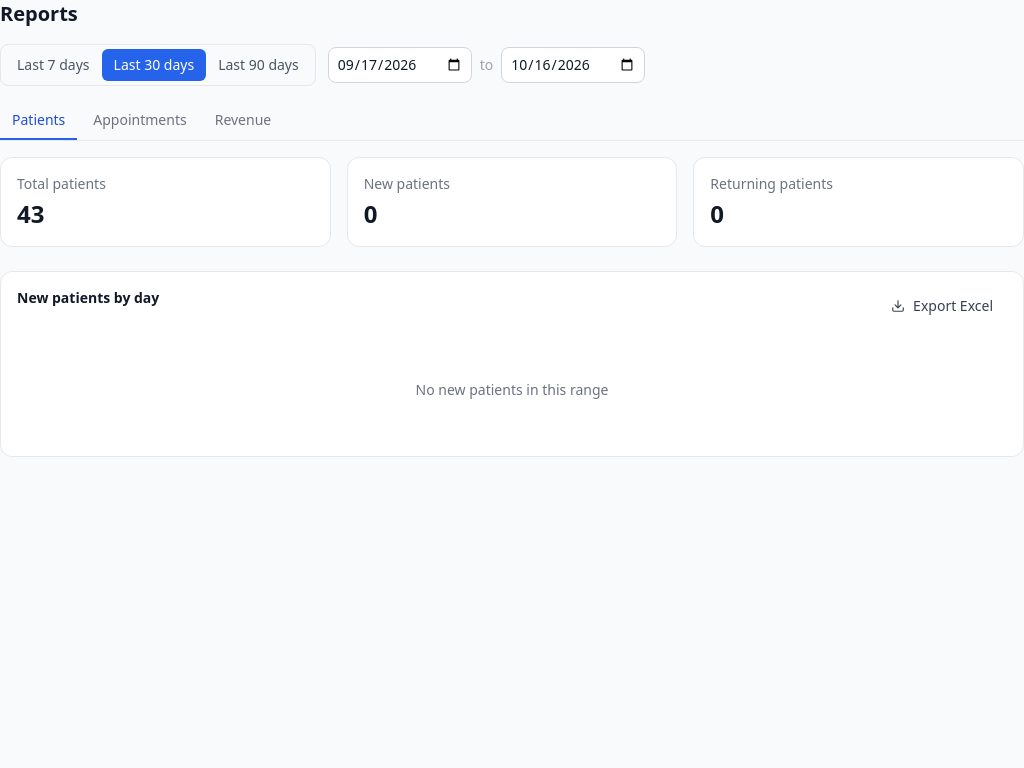
Test case: Reports › shows revenue by payment method with readable names, and a daily average
Click the tab "Revenue": (243, 121) [203, 102, 283, 140]
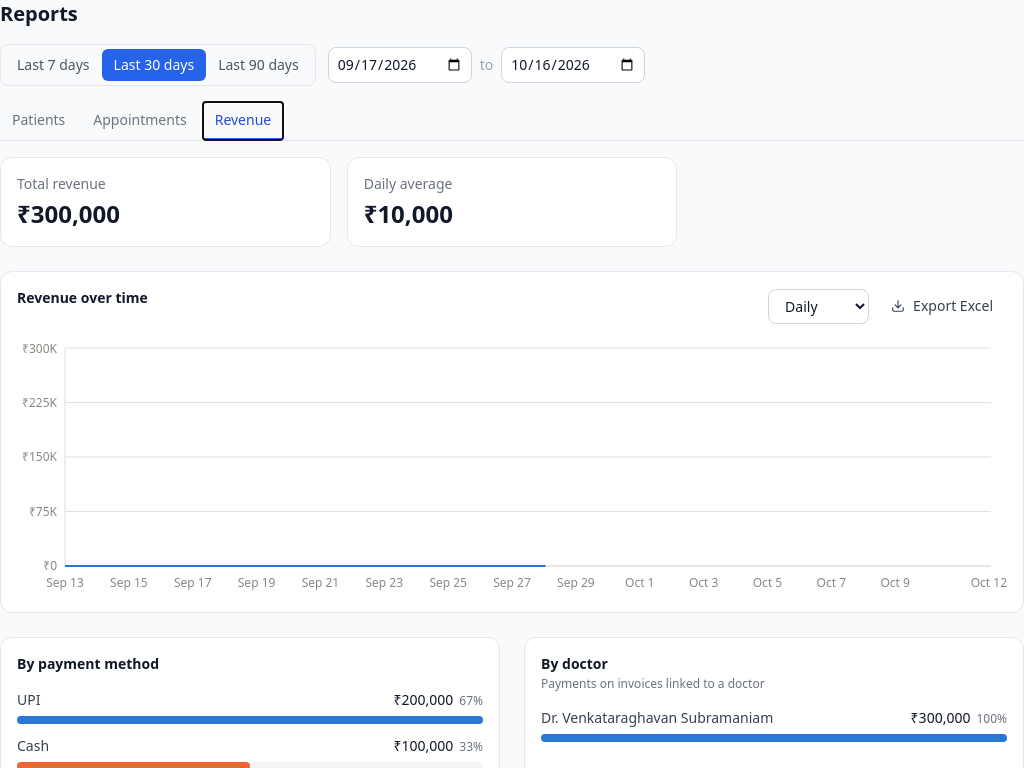
Result: the heading "By payment method" is shown at [17, 654, 159, 674]
Result: the list item "UPI" shows "67%" at [17, 690, 483, 724]
Result: the text "Cash" is shown at [17, 736, 49, 756]
